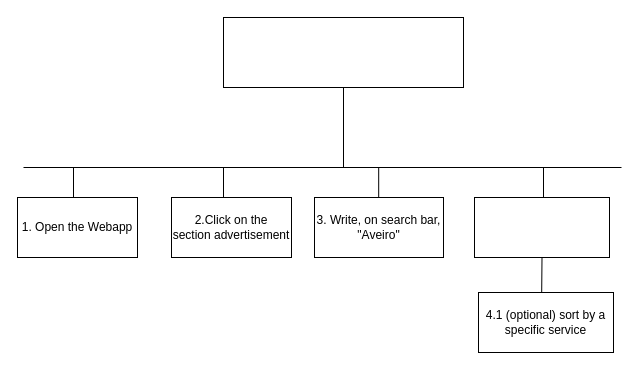
Some shapes in this 640 by 370 pixel diagram are drawn without their labels. Here are the shapes that lost their labels. From the top down, the box of each, then its label:
(222, 16, 464, 88): Searching for the location: Aveiro
(474, 196, 610, 258): 4. View advertisements
